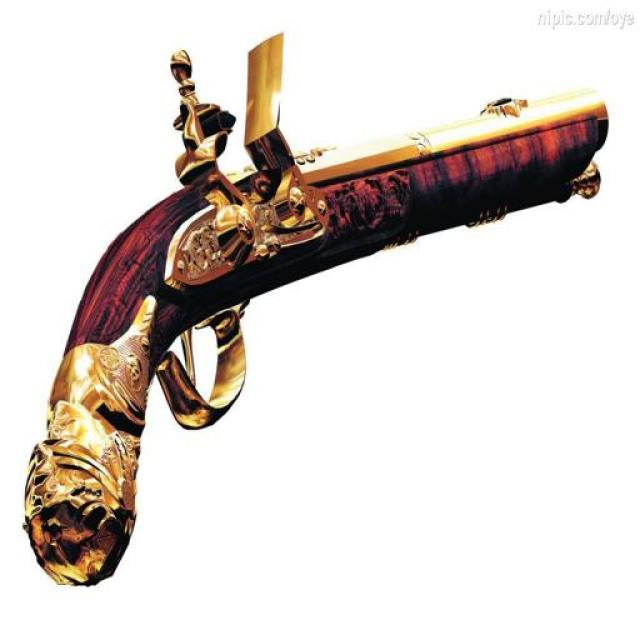pistol: (21, 30, 612, 587)
